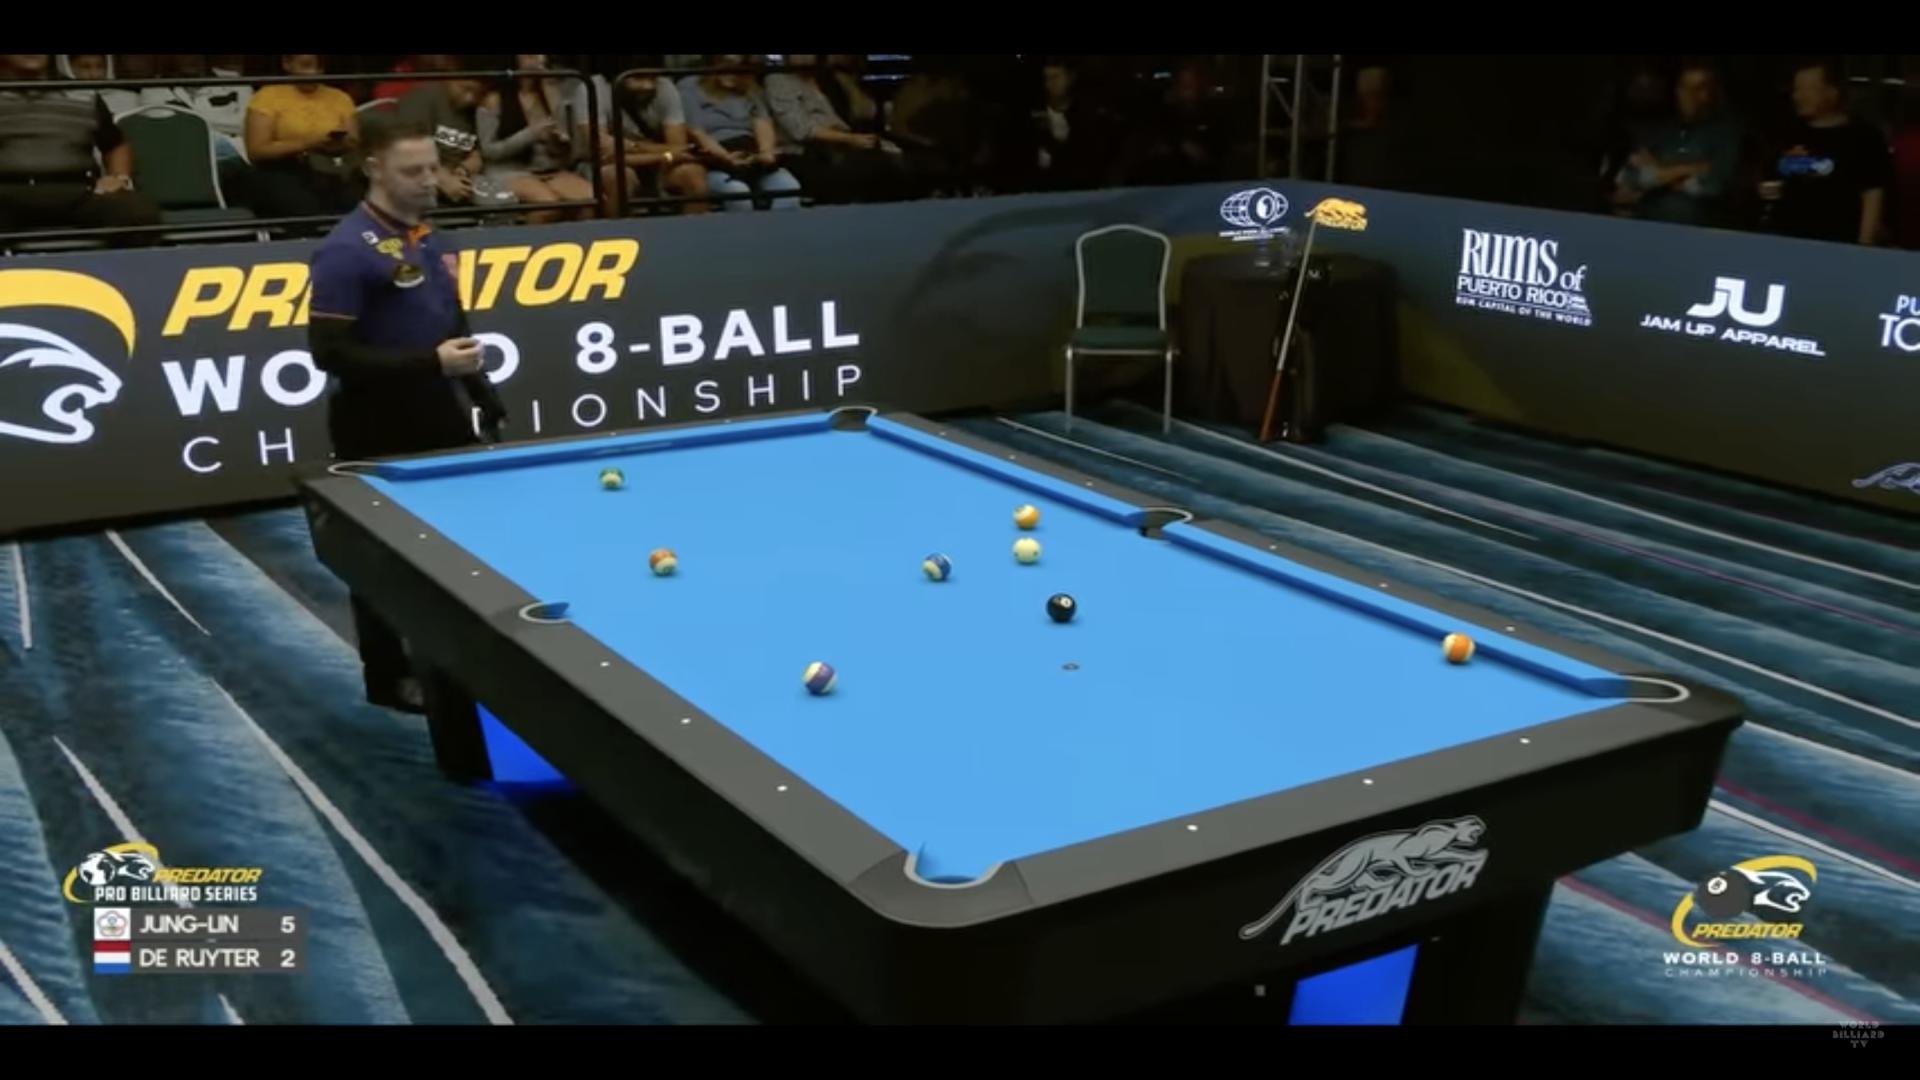Black: (1046, 593, 1076, 621)
Cue: (1011, 537, 1040, 563)
Dot: (596, 657, 612, 671), (775, 782, 790, 796), (678, 716, 694, 729), (1185, 822, 1200, 835), (1361, 775, 1375, 789), (1518, 733, 1532, 746), (469, 570, 480, 579), (418, 531, 429, 541), (371, 498, 381, 508), (1506, 625, 1515, 633), (1379, 582, 1389, 589), (1269, 543, 1278, 551), (939, 430, 947, 436), (1087, 480, 1093, 487), (1009, 454, 1015, 460), (488, 444, 495, 451), (611, 431, 617, 436), (725, 419, 731, 425)
Striped: (802, 661, 837, 694), (1443, 633, 1476, 662), (923, 553, 952, 580), (649, 549, 678, 575), (1013, 504, 1042, 527), (600, 467, 625, 488)
